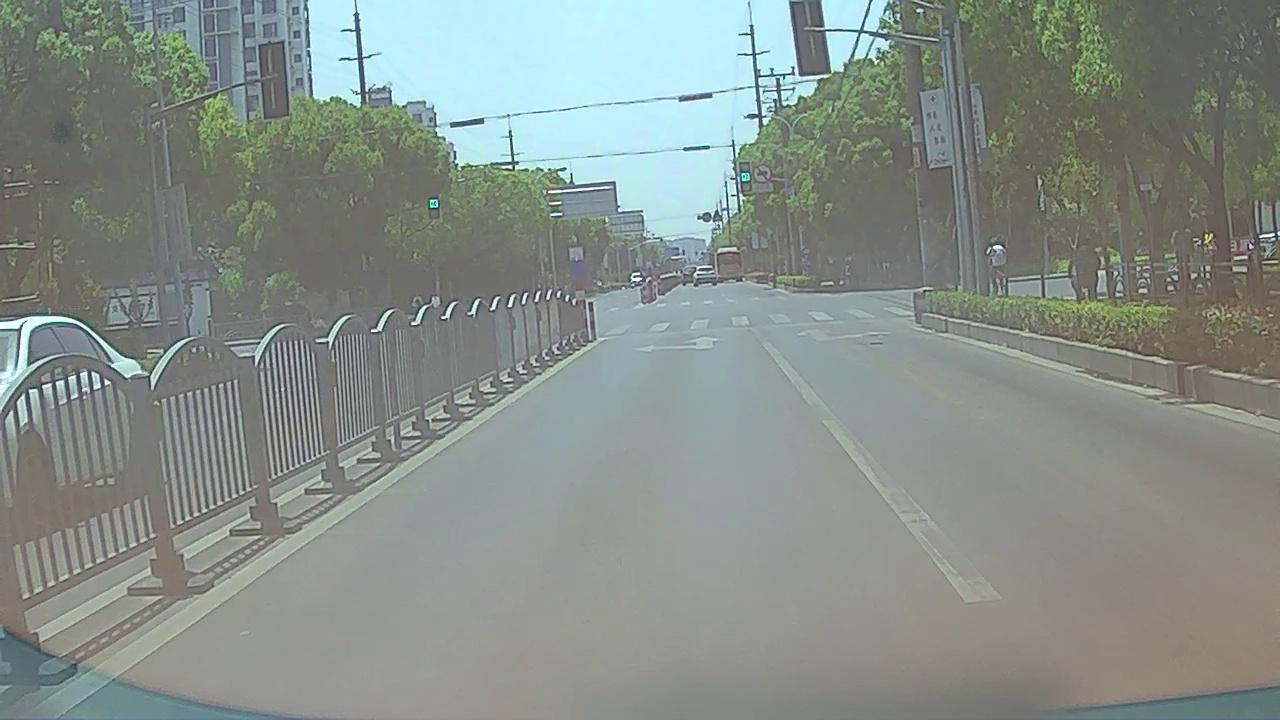traffic_light: (429, 196, 441, 220), (742, 162, 751, 192)
